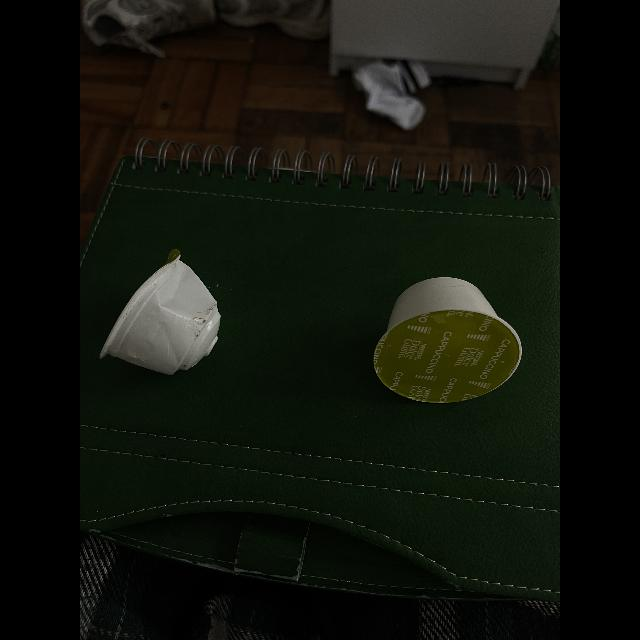damaged_capsule: (96, 251, 238, 383)
intact_capsule: (362, 266, 532, 418)
